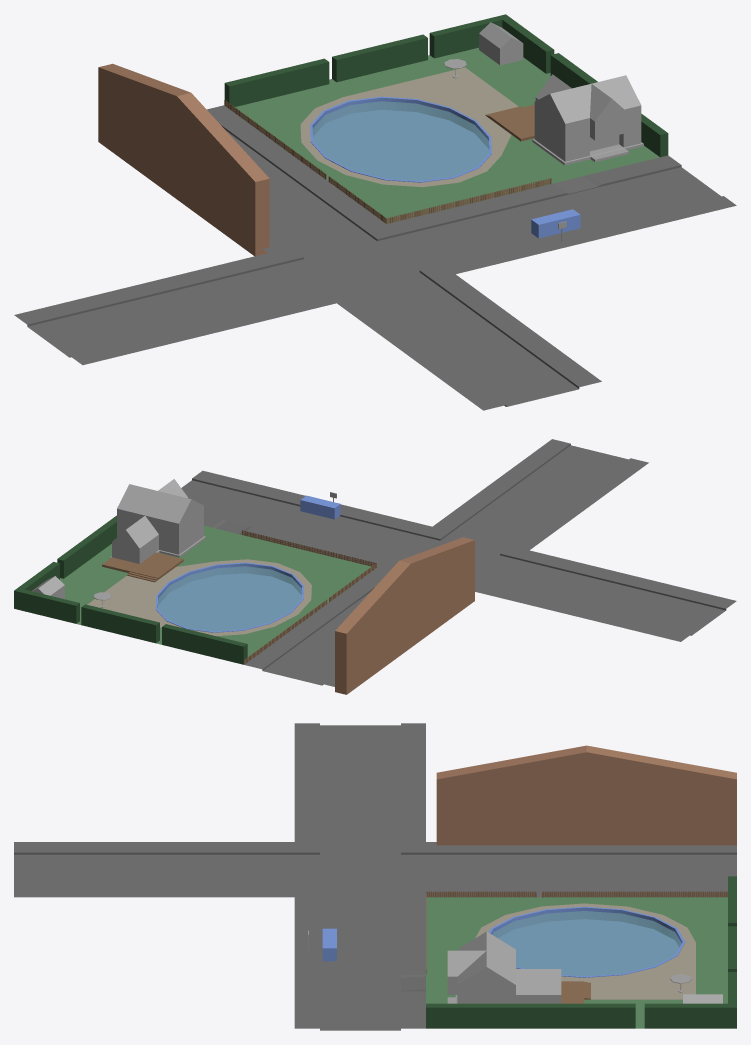
File: EnvironmentReference.fbx
The picture shows the model from 3 angles, top to bottom: view 1: azimuth 30°, elevation 25°; view 2: azimuth 150°, elevation 25°; view 3: azimuth 270°, elevation 25°; orthographic projection. The views are drawn at different scales.
Visible parts, largest first — view 1: Strasse, pCube16, Pool2, Pool, Pool3, Haus, Steinboden, pCube174, pCube173, pCube7, pCube172, pCube13 (+3 smaller); view 2: Strasse, pCube16, Pool2, Pool, Pool3, Haus, Steinboden, pCube174, pCube173, pCube7, pCube172, pCube4 (+3 smaller); view 3: Strasse, pCube16, Pool2, Pool, Pool3, Haus, pCube7, Steinboden, pCube171, pCube4, pCube9.
Boxes of the visible parts, x1=… form: Strasse: x1=14, y1=105, x2=736, y2=410; pCube16: x1=98, y1=63, x2=269, y2=256; Pool2: x1=231, y1=47, x2=659, y2=223; Pool: x1=310, y1=96, x2=491, y2=182; Pool3: x1=312, y1=101, x2=489, y2=180; Haus: x1=532, y1=74, x2=643, y2=165; Steinboden: x1=300, y1=67, x2=518, y2=187; pCube174: x1=224, y1=58, x2=329, y2=107; pCube173: x1=332, y1=34, x2=427, y2=82; pCube7: x1=550, y1=53, x2=668, y2=157; pCube172: x1=429, y1=15, x2=509, y2=58; pCube13: x1=479, y1=22, x2=523, y2=65; Strasse: x1=181, y1=439, x2=736, y2=686; pCube16: x1=335, y1=537, x2=474, y2=694; Pool2: x1=60, y1=525, x2=374, y2=660; Pool: x1=155, y1=562, x2=303, y2=632; Pool3: x1=157, y1=566, x2=301, y2=631; Haus: x1=110, y1=479, x2=205, y2=563; Steinboden: x1=87, y1=559, x2=311, y2=636; pCube174: x1=162, y1=624, x2=247, y2=664; pCube173: x1=81, y1=604, x2=159, y2=643; pCube7: x1=57, y1=515, x2=116, y2=578; pCube172: x1=14, y1=589, x2=79, y2=623; pCube4: x1=102, y1=552, x2=183, y2=579; Strasse: x1=14, y1=723, x2=736, y2=1030; pCube16: x1=436, y1=745, x2=736, y2=845; Pool2: x1=426, y1=897, x2=727, y2=1028; Pool: x1=489, y1=906, x2=685, y2=977; Pool3: x1=492, y1=911, x2=681, y2=976; Haus: x1=447, y1=931, x2=561, y2=1003; pCube7: x1=426, y1=1003, x2=635, y2=1028; Steinboden: x1=475, y1=903, x2=695, y2=999; pCube171: x1=644, y1=1003, x2=736, y2=1028; pCube4: x1=561, y1=981, x2=584, y2=1003; pCube9: x1=322, y1=928, x2=336, y2=961.
Bounding box in the file's own units: 1442 × 229 × 1442.
